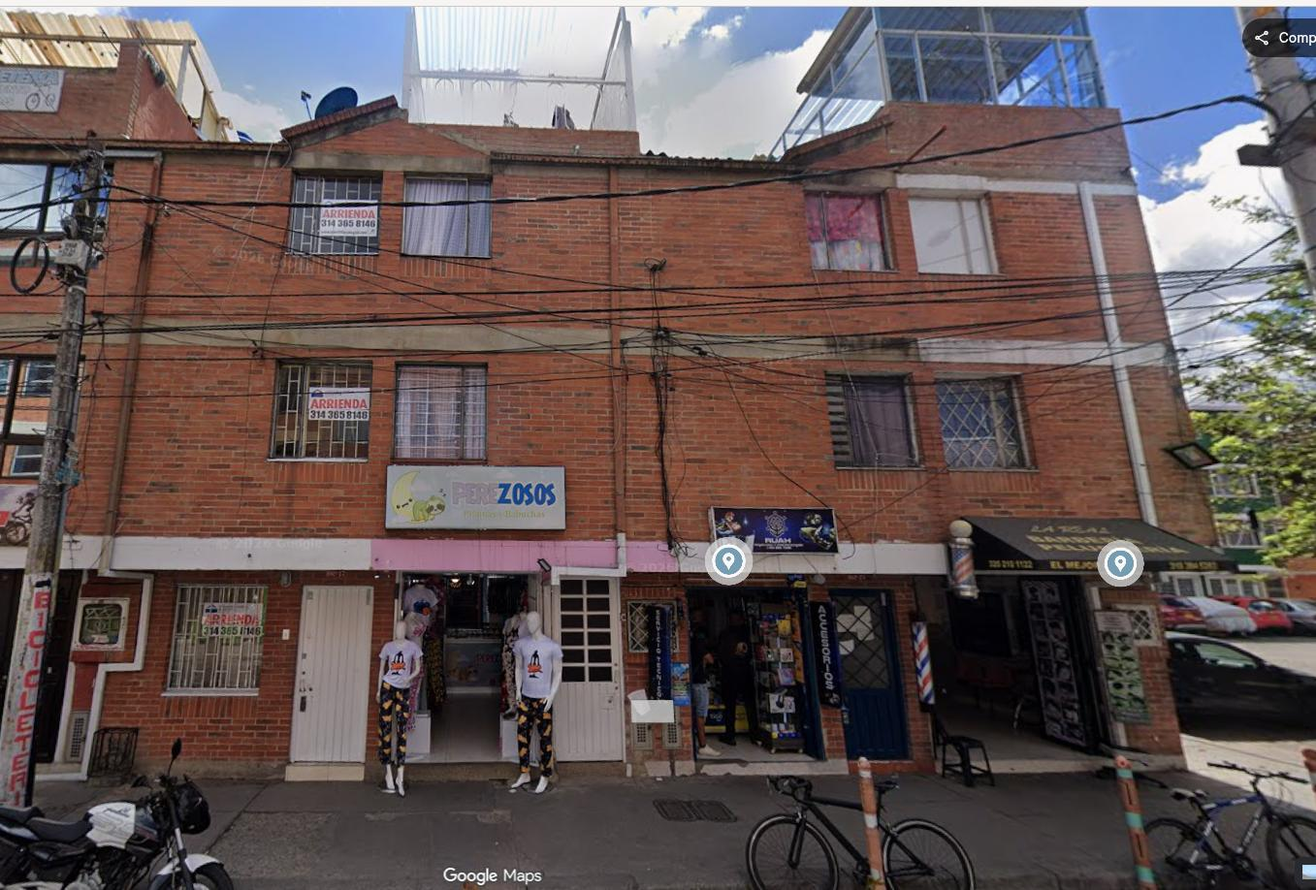casa: (619, 0, 1226, 777), (47, 4, 625, 769)
poste: (0, 147, 103, 805), (1239, 55, 1315, 295), (1236, 8, 1275, 27)
